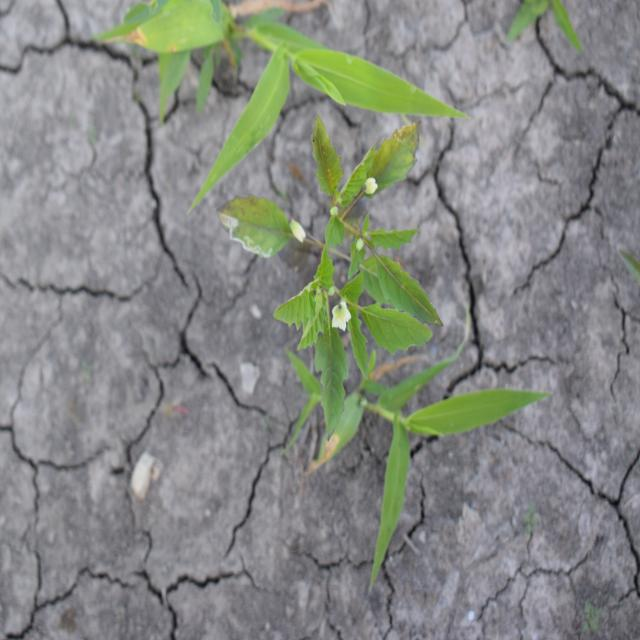CutleafGroundcherry: (215, 113, 445, 444)
